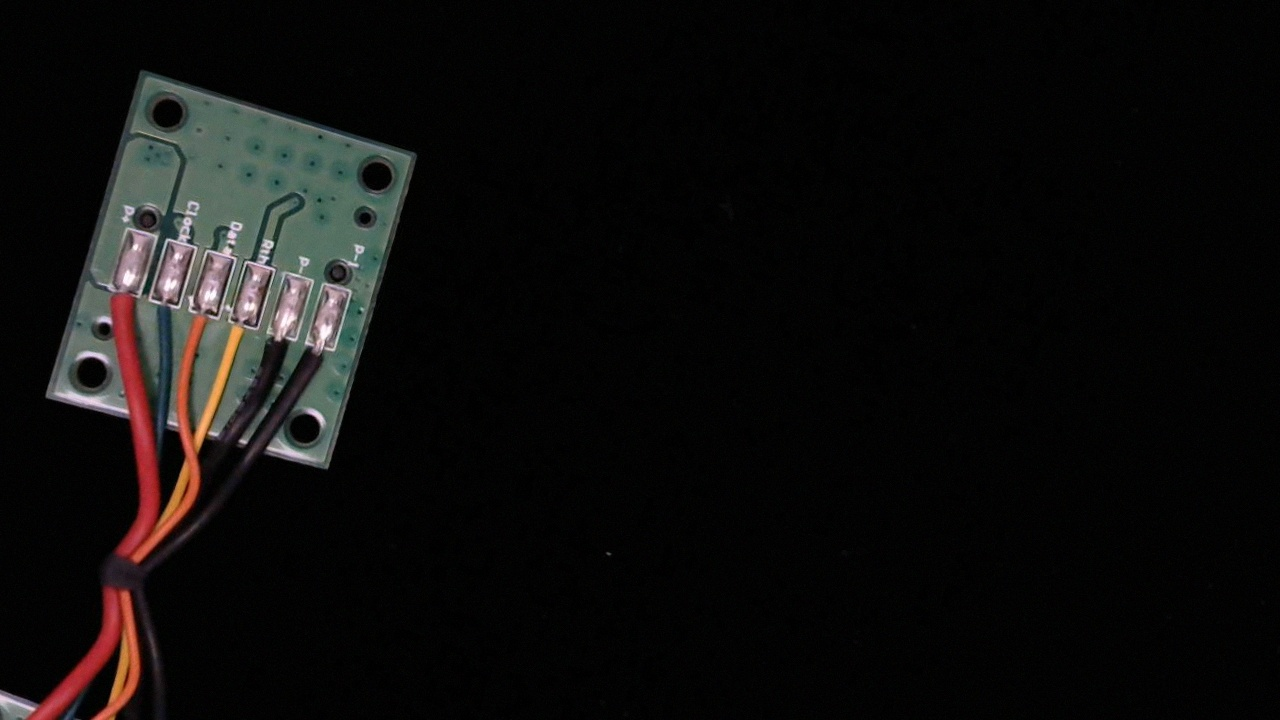Black: (252, 317, 300, 387)
Black1: (288, 328, 340, 402)
Green: (134, 283, 184, 348)
Orange: (173, 294, 221, 362)
Red: (90, 272, 144, 349)
Yellow: (212, 307, 264, 376)
